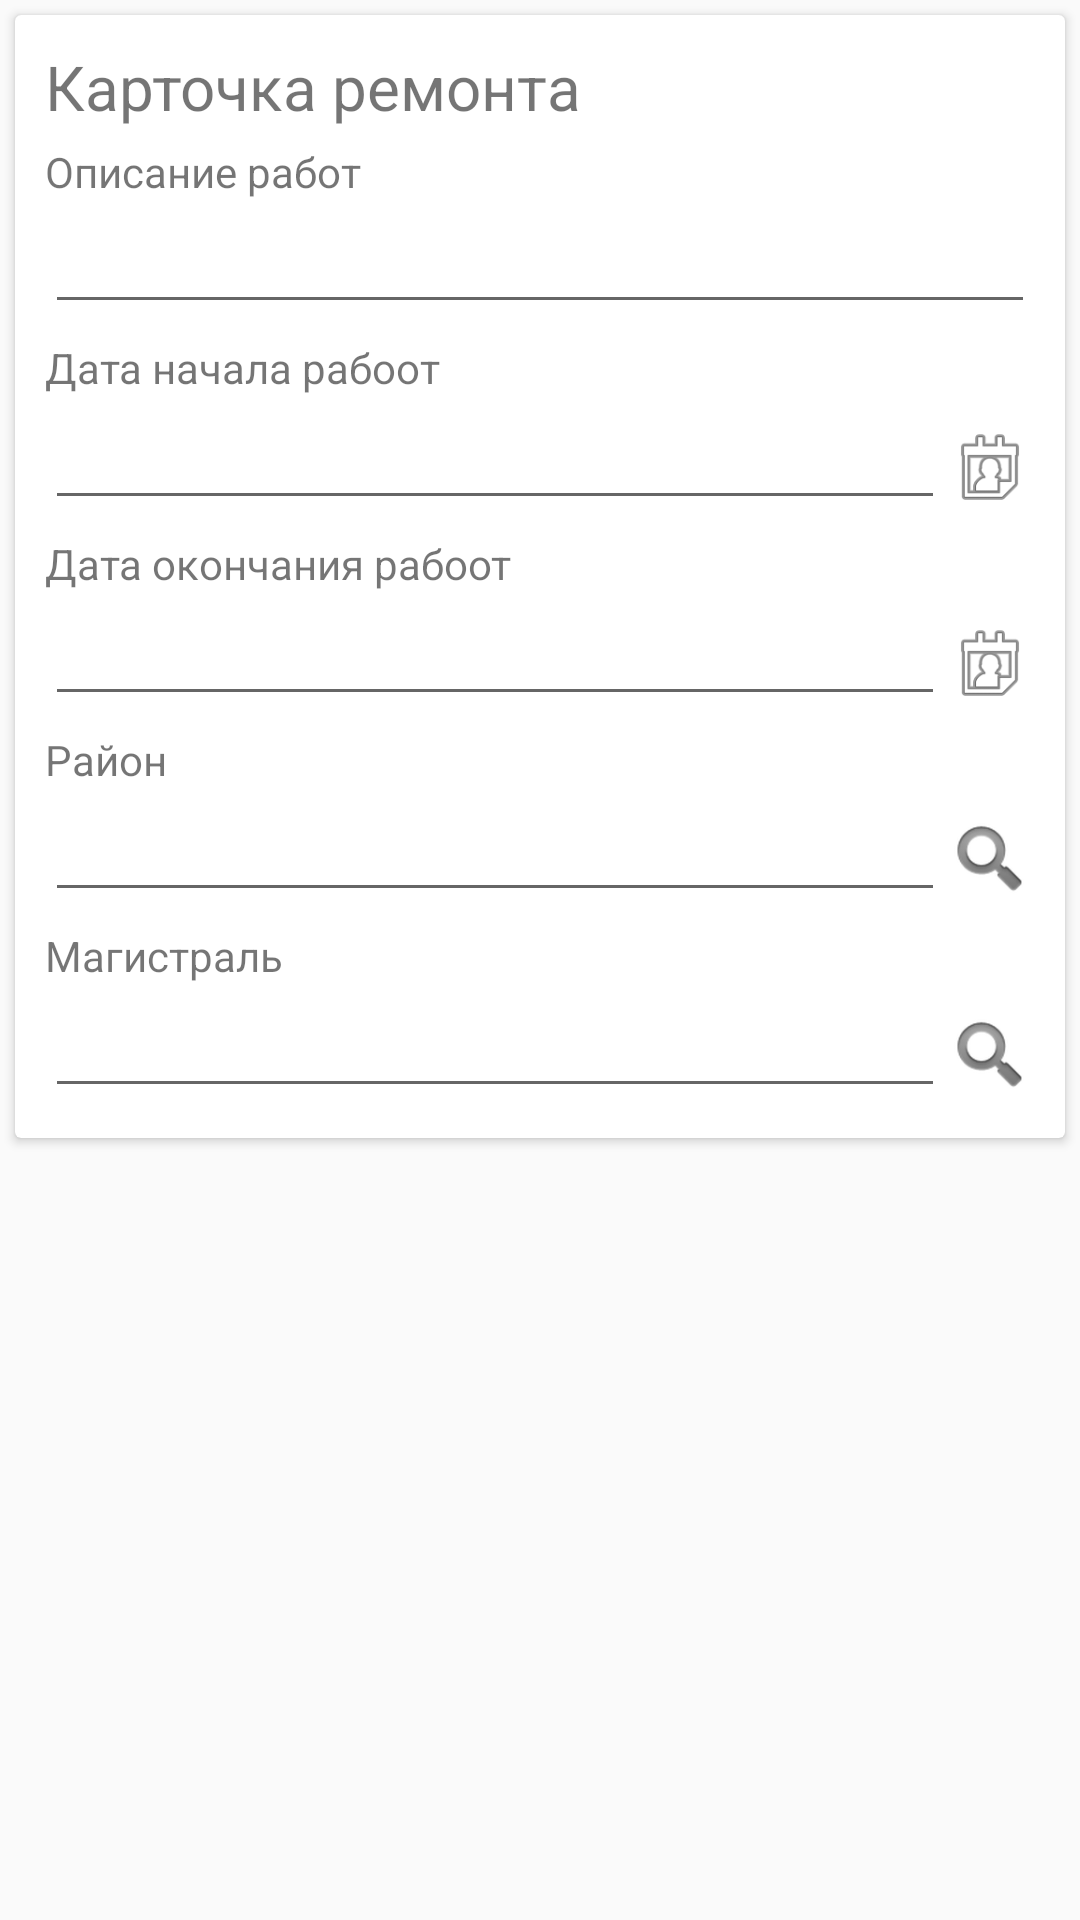

Icons on this 1080×1920 Android screen, each with its box as (x1, y1, x2, y2):
calendar: (961, 434, 1019, 500), (961, 630, 1019, 696)
search category: (957, 826, 1022, 891), (957, 1022, 1022, 1087)
